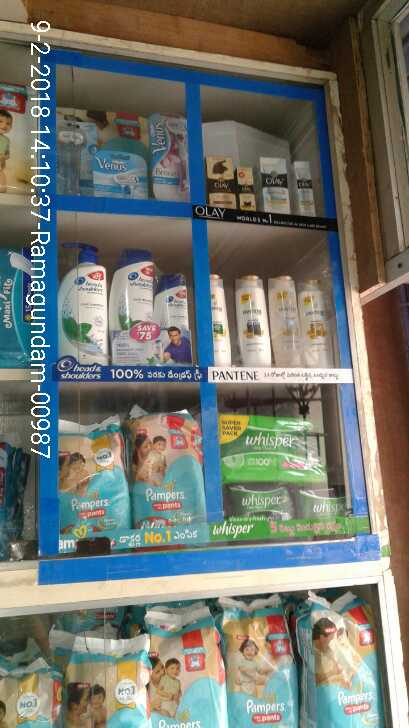venus: (94, 144, 152, 196), (152, 115, 186, 196), (59, 126, 92, 194)
